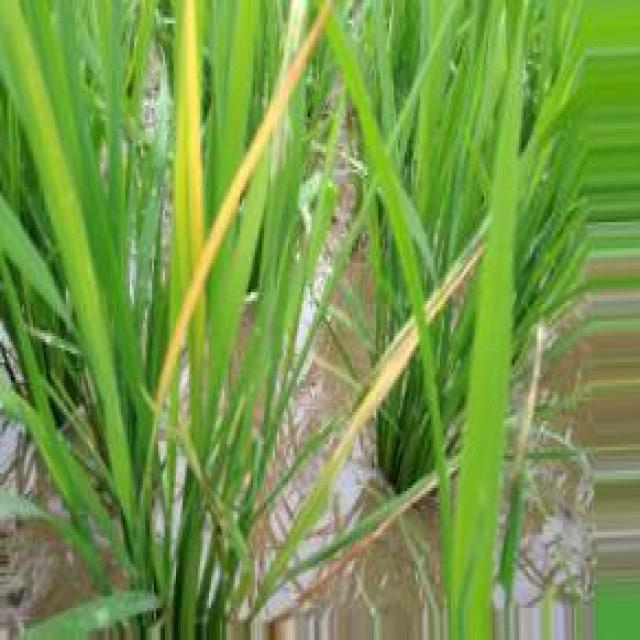Rice Tungro: (161, 2, 329, 406), (317, 317, 419, 484), (173, 0, 205, 293), (424, 241, 482, 321)
